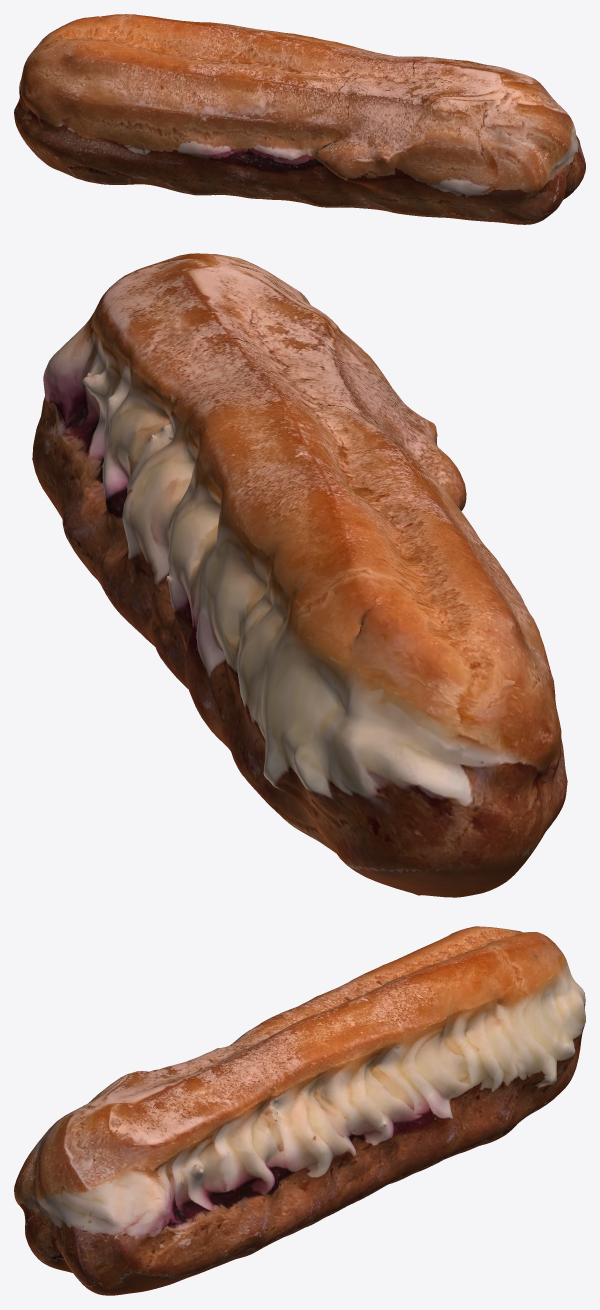
The model's file is eclaire_19534.obj.
The picture shows the model from 3 angles, top to bottom: view 1: azimuth 30°, elevation 25°; view 2: azimuth 150°, elevation 25°; view 3: azimuth 270°, elevation 25°; orthographic projection. The views are drawn at different scales.
Size of the model in its own units: 93.82 by 31.6 by 91.28.
1 material, 1 textured.
